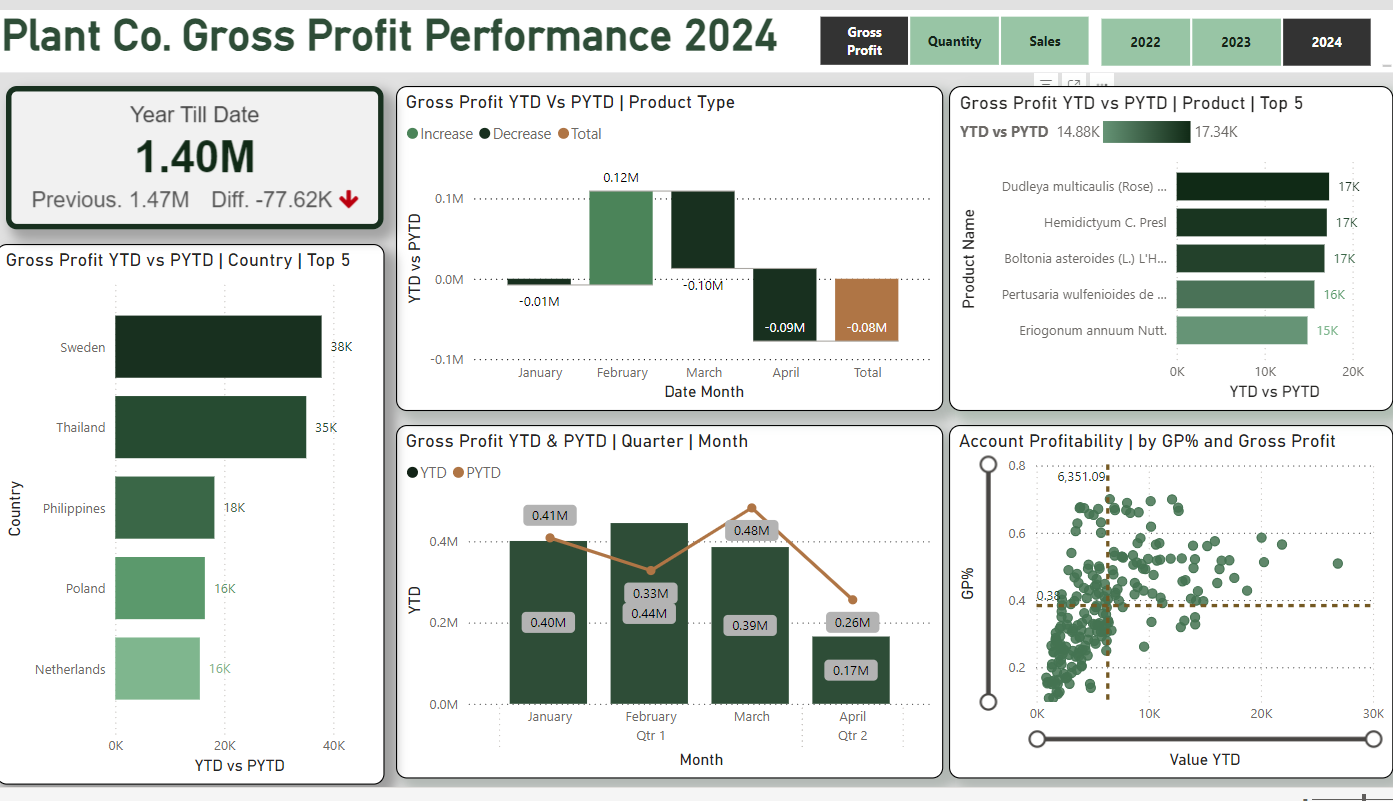

What the dashboard file says about the page in this screenshot:
{"tool":"powerbi","page":{"name":"Performance Report","canvas":[1280,720],"ordinal":0},"visuals":[{"type":"textbox","box":[0,9.6,1279.8,56.7],"z":1000},{"type":"slicer","title":"Year","fields":{"Values":["Dim_Date.Date.Variation.Date Hierarchy.Year"]},"box":[983.7,11.3,296.3,56.6],"z":2000},{"type":"slicer","title":"Year","fields":{"Values":["Slc_Values.Values"]},"box":[727.5,9.3,295.3,57.6],"z":3000},{"type":"lineClusteredColumnComboChart","fields":{"Category":["Dim_Date.Date.Variation.Date Hierarchy.Quarter","Dim_Date.Date.Variation.Date Hierarchy.Month"],"Y":["_Measures.S_YTD"],"Y2":["_Measures.S_PYTD"]},"box":[365.3,388.9,500.1,323.1],"z":4000},{"type":"waterfallChart","fields":{"Category":["Dim_Date.Date.Variation.Date Hierarchy.Month","Dim_Product.Produt_Type"],"Y":["_Measures.YTD vs PYTD"]},"box":[365.6,79.7,500,296.9],"z":5000},{"type":"scatterChart","fields":{"Category":["Dim_Accounts.Account"],"X":["_Measures.S_YTD"],"Y":["_Measures.GP%"]},"box":[870.5,388.9,406.4,323.1],"z":6000},{"type":"barChart","fields":{"Category":["Dim_Accounts.country"],"Y":["_Measures.YTD vs PYTD"]},"box":[0,223.4,354.7,493.8],"z":7000},{"type":"BBED0A4D4D8D44CE93CF2DAFADEE466C","fields":{"actual":["_Measures.S_YTD"],"target1":["_Measures.S_PYTD"],"target2":["_Measures.YTD vs PYTD"]},"box":[9.4,79.7,345.3,131.2],"z":8000},{"type":"barChart","fields":{"Y":["_Measures.YTD vs PYTD"],"Category":["Dim_Product.Product_Name"]},"box":[870.5,79.2,406.4,297.4],"z":9000}]}

Visuals, with their boxes in screenshot pixels (x1, y1, x2, y2), scaled from the page's 1280x720 canvas onto the 1393x801 screenshot:
textbox: 0/11/1392/74
"Year" slicer: 1071/13/1392/76
"Year" slicer: 792/10/1113/74
lineClusteredColumnComboChart - Dim_Date.Date.Variation.Date Hierarchy.Quarter x Dim_Date.Date.Variation.Date Hierarchy.Month: 398/433/942/792
waterfallChart - Dim_Date.Date.Variation.Date Hierarchy.Month x Dim_Product.Produt_Type: 398/89/942/419
scatterChart - Dim_Accounts.Account x _Measures.S_YTD: 947/433/1390/792
barChart - Dim_Accounts.country x _Measures.YTD vs PYTD: 0/249/386/798
BBED0A4D4D8D44CE93CF2DAFADEE466C - _Measures.S_YTD x _Measures.S_PYTD: 10/89/386/235
barChart - _Measures.YTD vs PYTD x Dim_Product.Product_Name: 947/88/1390/419
